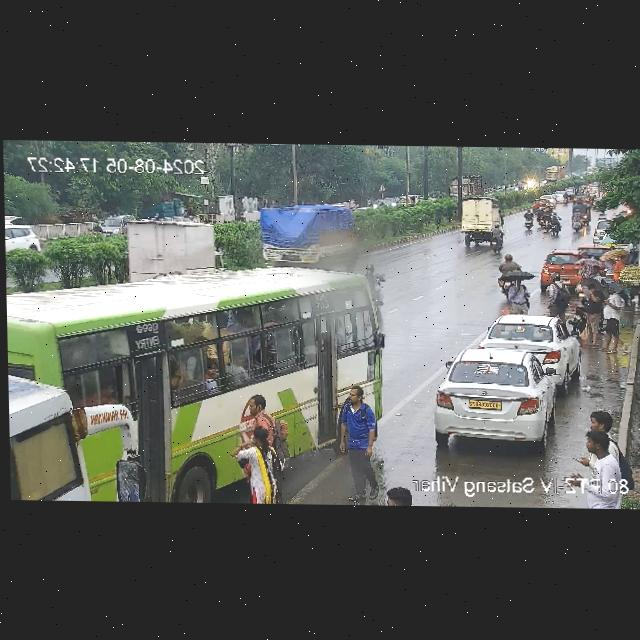bus: (11, 263, 388, 505), (577, 429, 625, 509)
car: (432, 348, 571, 446), (482, 315, 579, 374), (540, 251, 585, 284), (5, 222, 40, 259), (102, 212, 134, 237), (594, 217, 612, 244), (571, 203, 588, 224), (514, 179, 528, 192)
motorcycle: (536, 205, 560, 233), (490, 221, 506, 254), (519, 208, 534, 232), (85, 220, 103, 238), (571, 209, 584, 232), (562, 191, 571, 207)
person: (231, 393, 293, 505), (337, 382, 376, 500), (595, 284, 627, 352), (489, 254, 527, 307), (583, 284, 605, 347), (582, 408, 614, 447), (547, 275, 574, 319), (608, 245, 630, 283), (385, 486, 415, 506)
truck: (255, 204, 365, 269), (118, 219, 223, 280), (453, 195, 508, 249), (449, 173, 483, 201), (541, 166, 566, 184)
